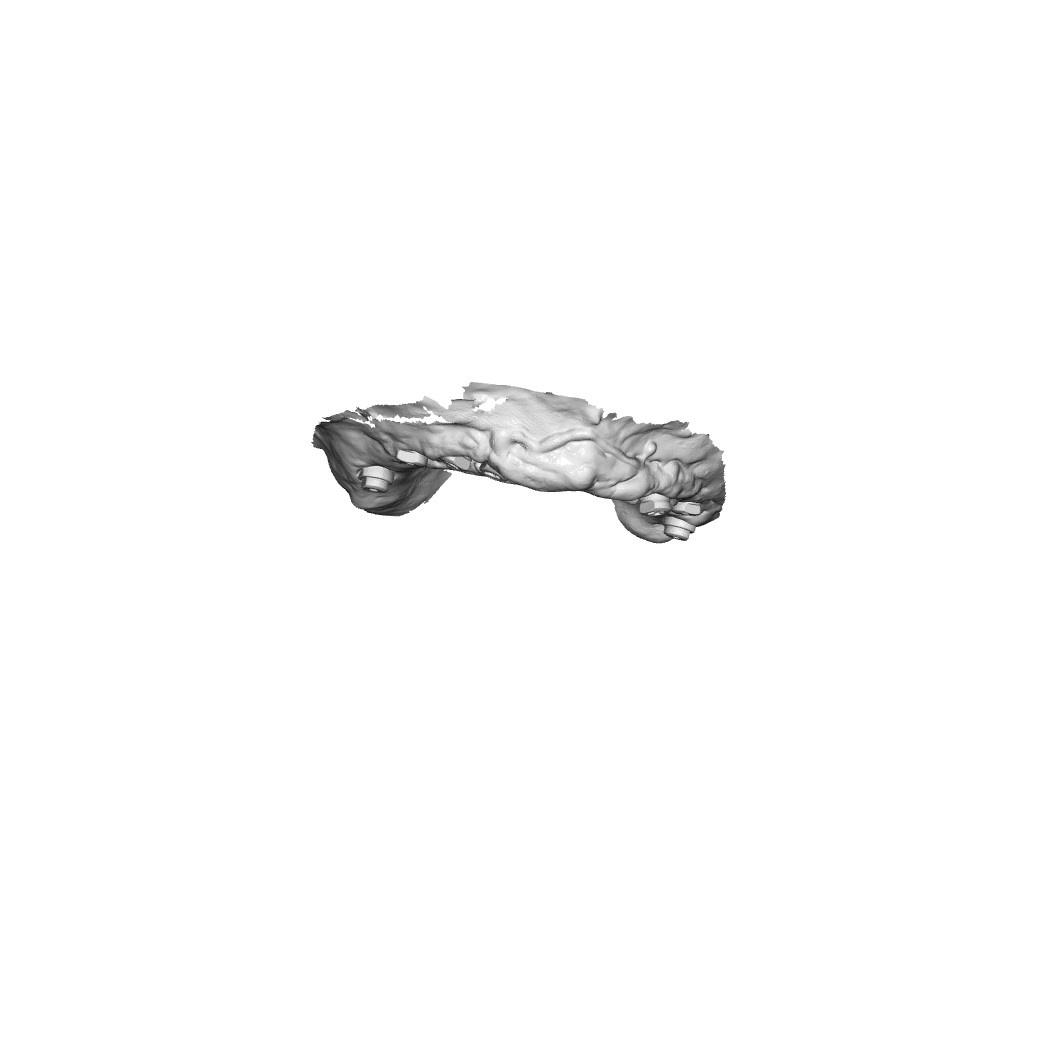implant: (357, 465, 396, 494), (661, 515, 697, 542), (638, 493, 673, 518), (393, 448, 429, 470), (439, 452, 472, 474), (479, 459, 508, 484), (671, 500, 702, 517)
